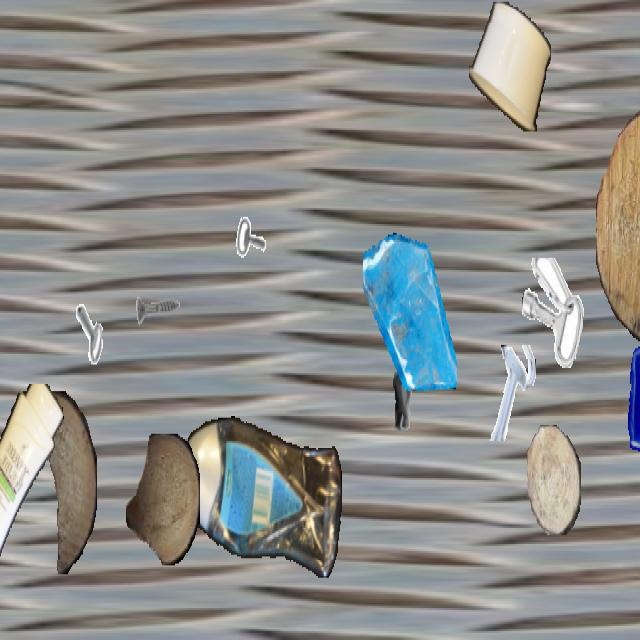glass: (363, 231, 457, 398), (618, 336, 640, 460)
metal: (522, 258, 584, 368), (484, 345, 538, 441), (75, 270, 129, 366), (378, 359, 428, 448), (134, 270, 180, 352), (236, 192, 276, 263)
plastic: (181, 414, 341, 585), (0, 384, 68, 576), (469, 2, 551, 130)
wood: (25, 391, 97, 573), (596, 110, 640, 345), (126, 434, 200, 565), (527, 425, 581, 535)
